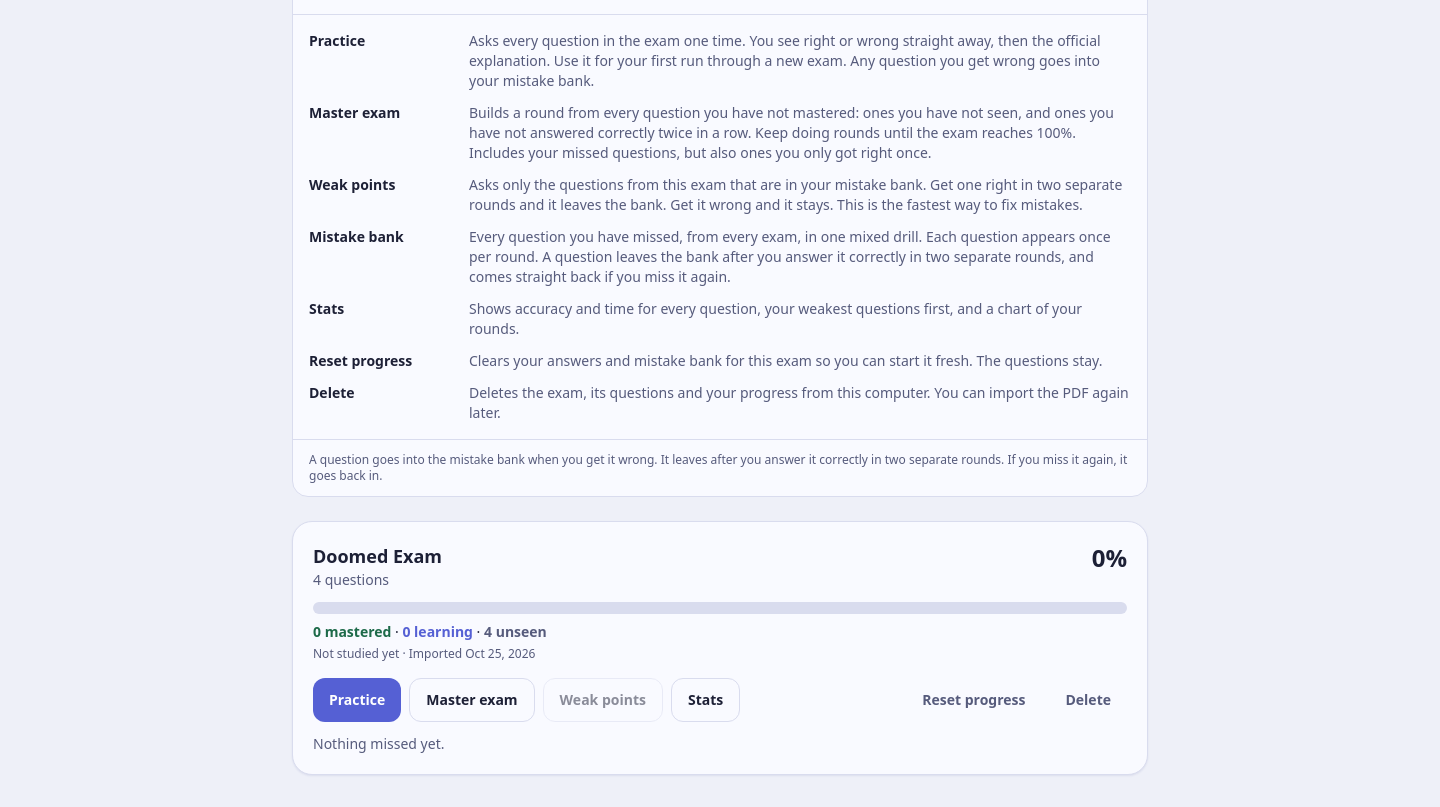
Test: LibraryScreen › deletes after confirmation and returns to the empty state
(page scrolled)
Click the button with aria-label "Delete Doomed Exam".
click(1088, 700)  # box [1050,678,1127,722]
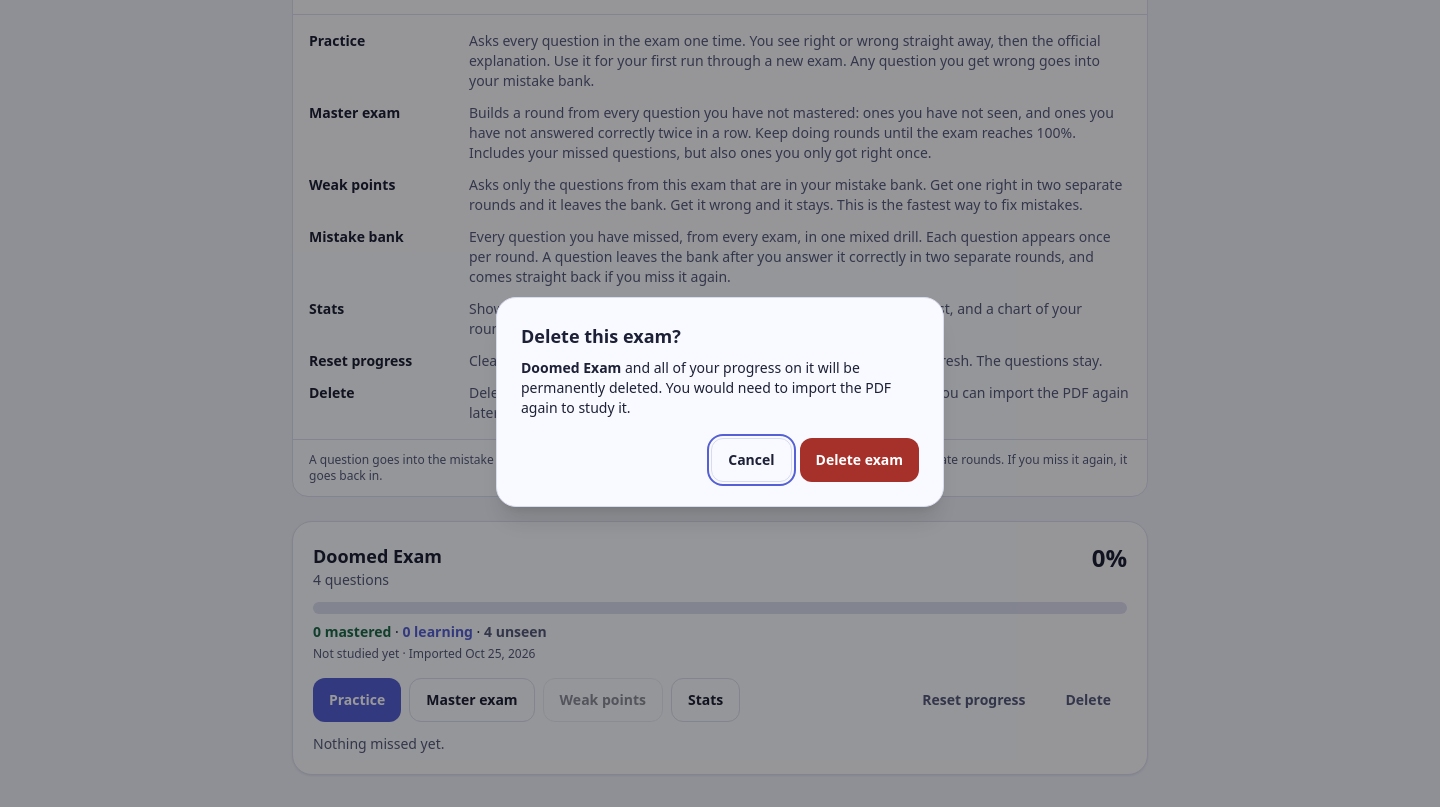
Click the button "Delete exam".
click(859, 460)  # box [800,438,919,482]
(page scrolled)
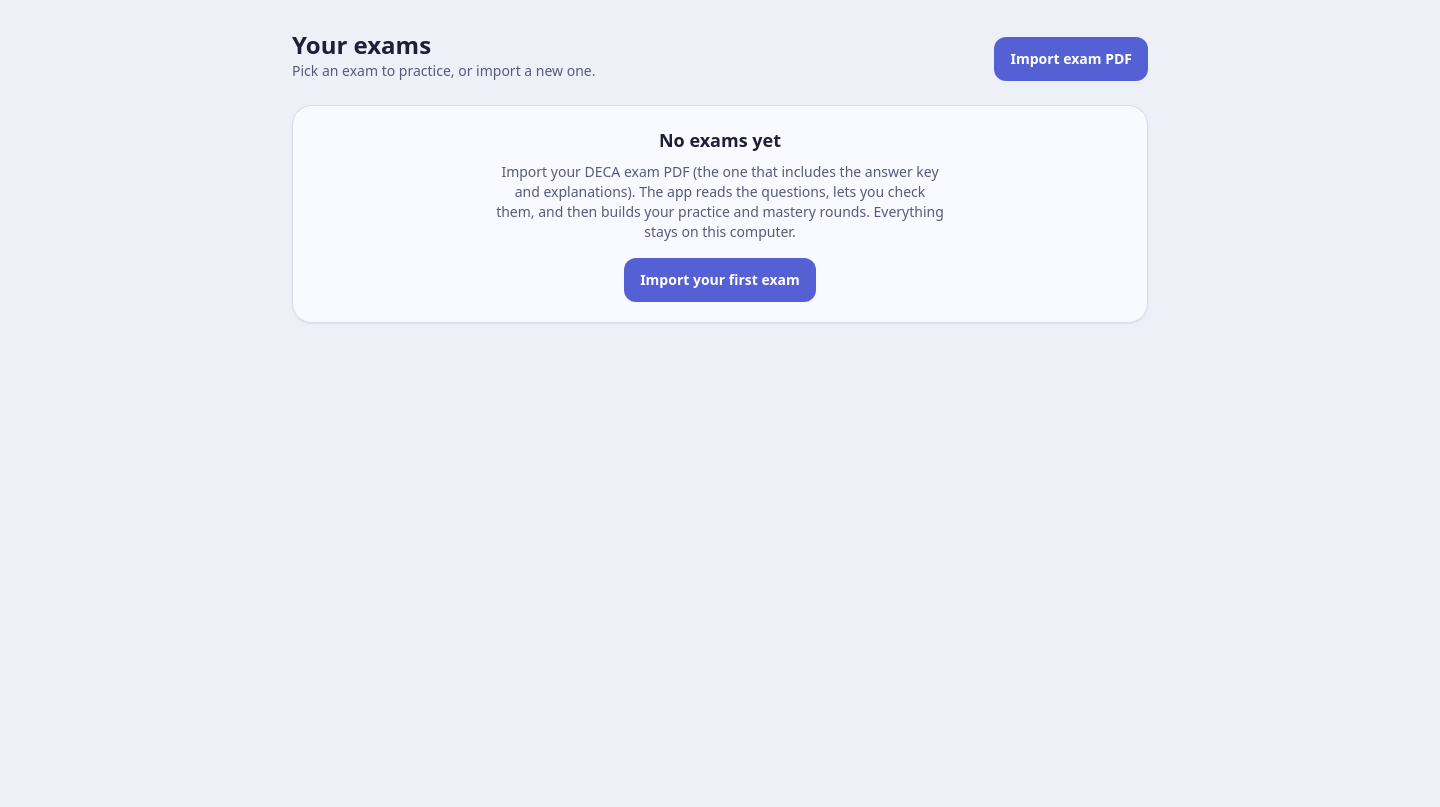
Result: the heading "No exams yet" is shown at [659,128,781,152]
